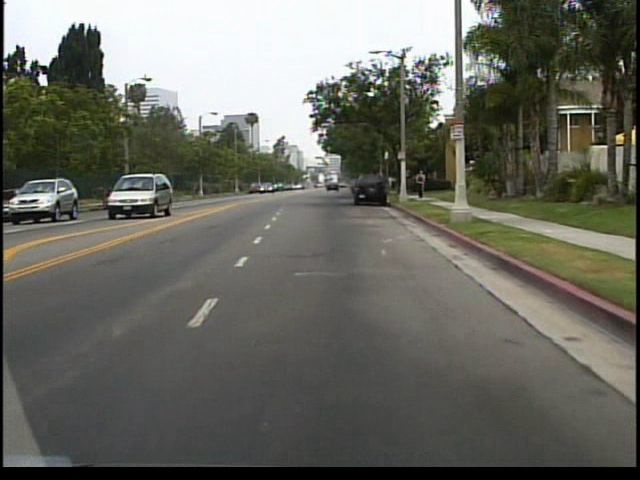person: (413, 169, 428, 203), (418, 171, 422, 203)
